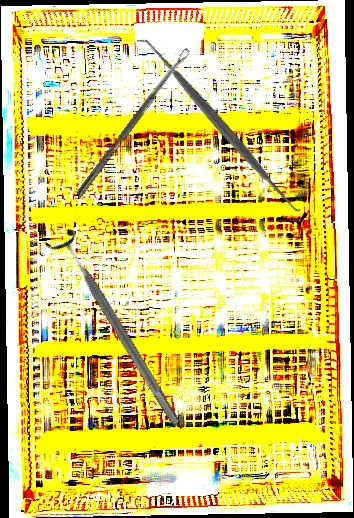Fixation Ring: (43, 225, 192, 435)
Spatula Surgical: (132, 26, 307, 223)
Surgical Spoon: (75, 47, 192, 199)
